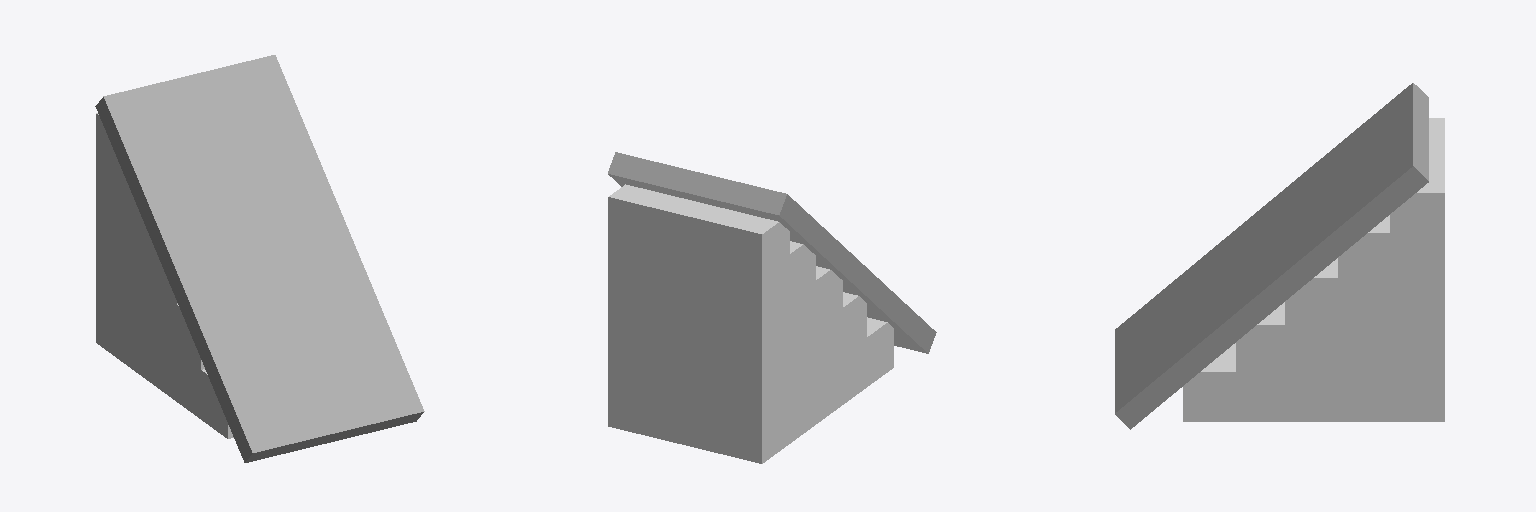
File: stairs.obj
3 views of the same model, side by side, from view 1: azimuth 30°, elevation 25°; view 2: azimuth 150°, elevation 25°; view 3: azimuth 270°, elevation 25° (orthographic).
Parts seen in each view (by area): view 1: Box, Stairs; view 2: Stairs, Box; view 3: Stairs, Box.
Boxes of the visible parts, <box> form: Box: <box>95,55,424,462</box>; Stairs: <box>96,113,233,438</box>; Stairs: <box>608,184,893,463</box>; Box: <box>608,152,936,353</box>; Stairs: <box>1183,118,1444,421</box>; Box: <box>1115,83,1428,429</box>.
Size of the model in its own units: 3.6 by 5.28 by 6.